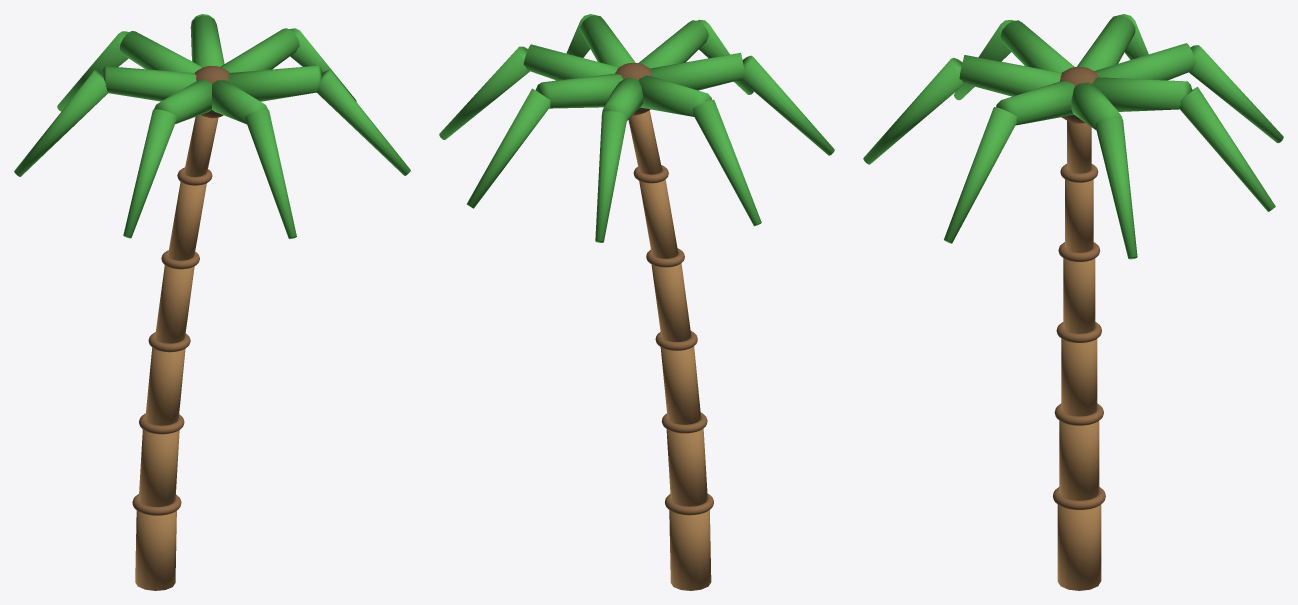
Rendered from palm.glb.
3 renders of one model, left to right at view 1: azimuth 30°, elevation 25°; view 2: azimuth 150°, elevation 25°; view 3: azimuth 270°, elevation 25°, orthographic. The views are drawn at different scales.
Visible parts, largest first — view 1: palm; view 2: palm; view 3: palm.
Boxes of the visible parts, x1,y1,x2,y2 form: palm: [14, 14, 410, 590]; palm: [439, 14, 834, 590]; palm: [863, 14, 1283, 590].
Bounding box in the file's own units: 1.74 × 2.56 × 1.77.
